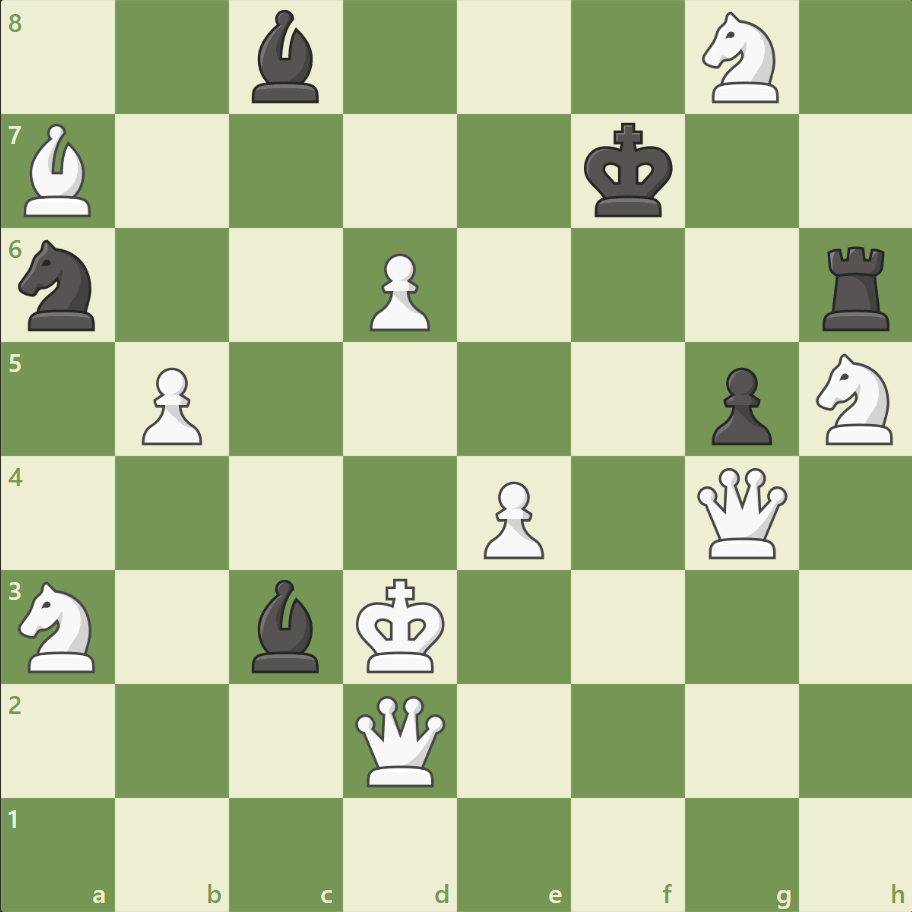B: (17, 120, 101, 222)
K: (351, 571, 451, 679)
N: (692, 7, 789, 110), (806, 348, 903, 450), (11, 575, 108, 677)
P: (133, 359, 208, 450), (474, 473, 549, 564), (361, 246, 435, 337)
Q: (691, 463, 790, 562), (351, 690, 450, 789)
b: (244, 6, 328, 109), (244, 574, 328, 676)
k: (579, 117, 679, 225)
n: (11, 234, 108, 337)
p: (701, 359, 776, 450)
r: (814, 239, 897, 336)
